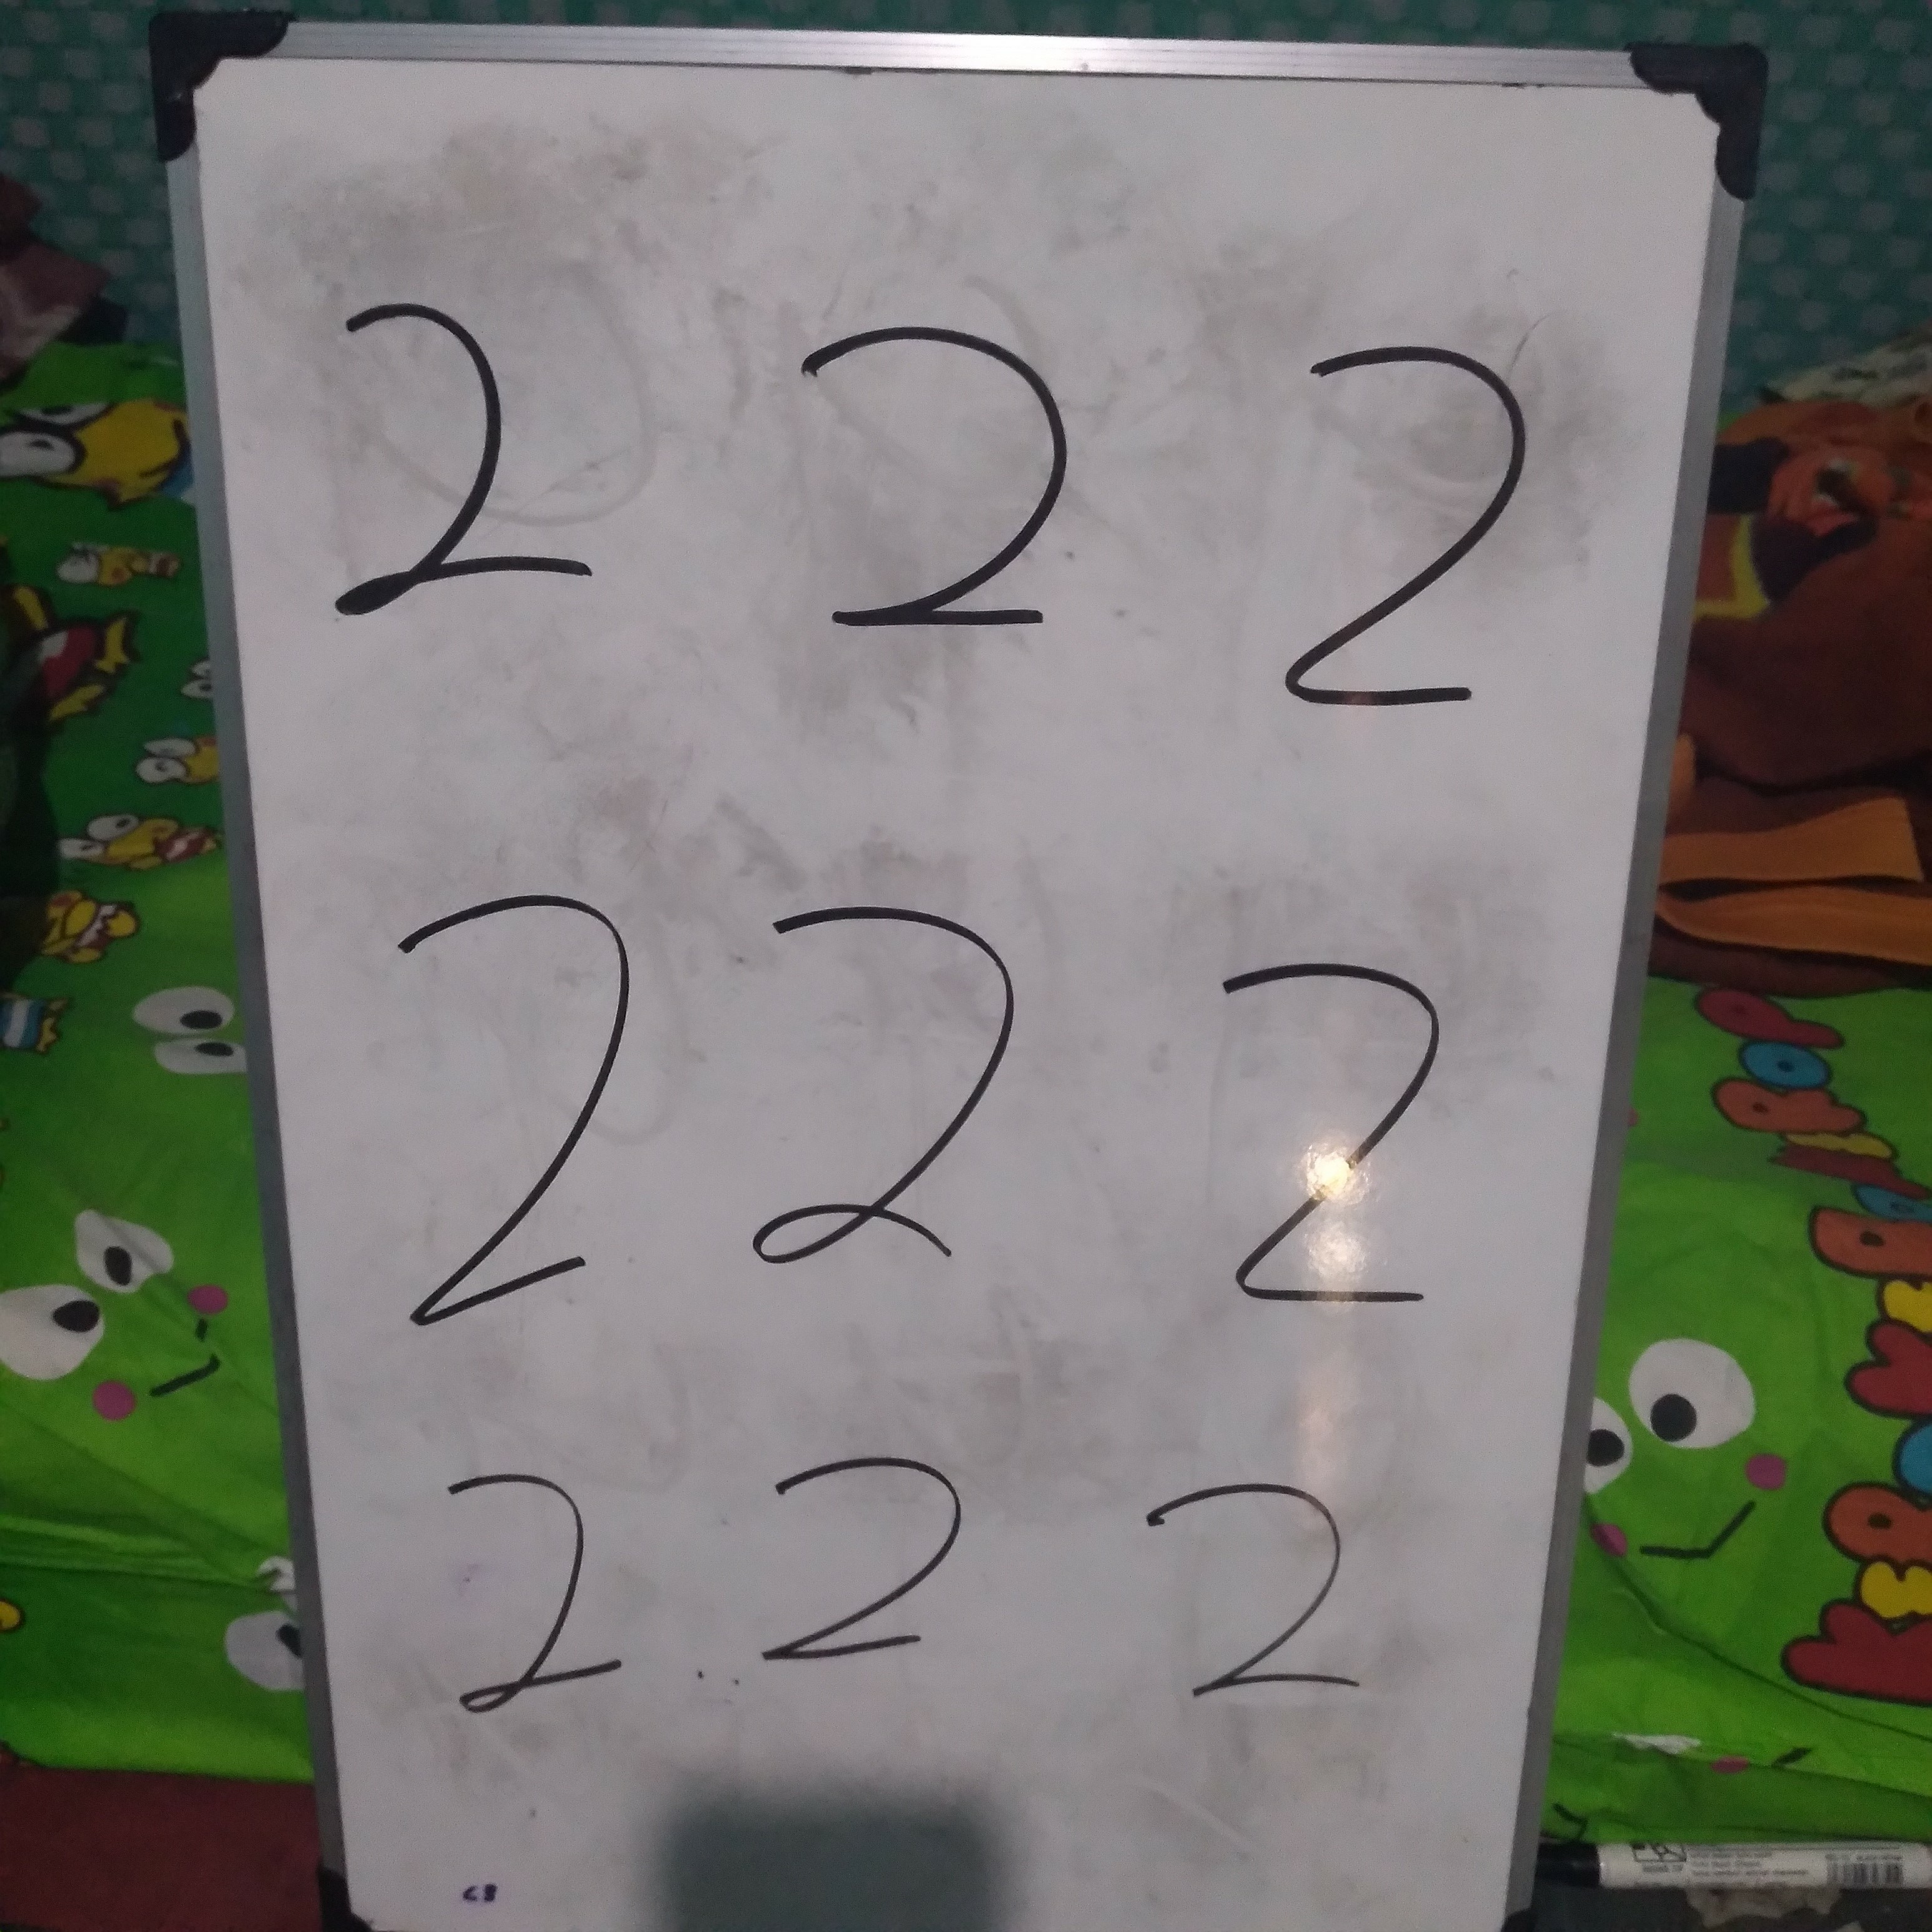num2: (360, 870, 658, 1333), (1233, 325, 1550, 705), (364, 1386, 681, 1766), (1092, 1394, 1409, 1774), (1166, 950, 1483, 1330), (723, 901, 1039, 1281), (321, 277, 638, 657), (788, 302, 1105, 682), (720, 1356, 1037, 1736)
